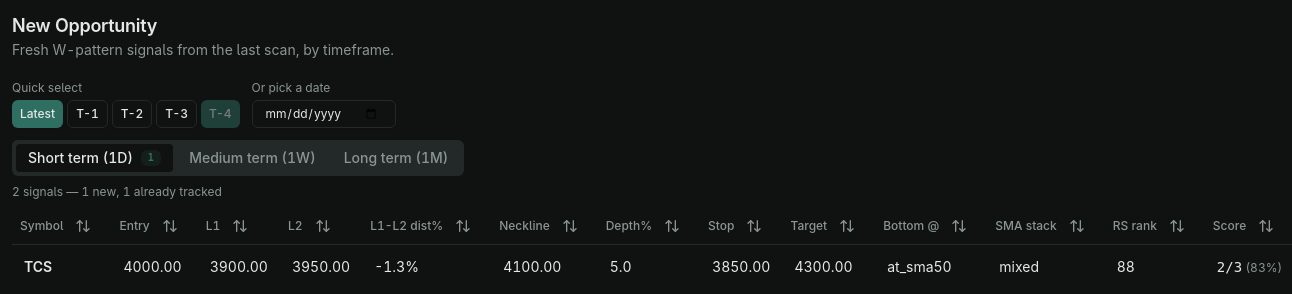
Test: New Opportunity screen › T-1 quick-select fetches the previous scanned date, and T-4 is disabled when no data exists that far back
This screenshot has width=1292, height=294.
expect the button "TCS" is shown: met, box [24,256,52,276]
expect the button "T-4" is disabled: met, box [201,100,240,128]
Click the button "T-1" at {"x": 88, "y": 114}, box [67,100,108,128]
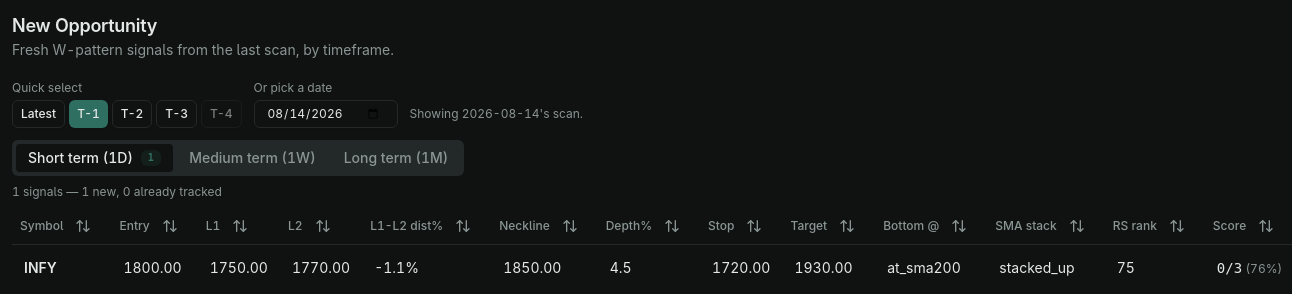
expect the button "INFY" is shown: met, box [24,258,57,278]
expect the text "Showing 2026-08-14's scan." is shown: met, box [410,106,583,128]
